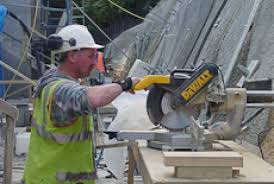hard hat: (49, 24, 104, 53)
high-vis: (24, 79, 95, 184)
